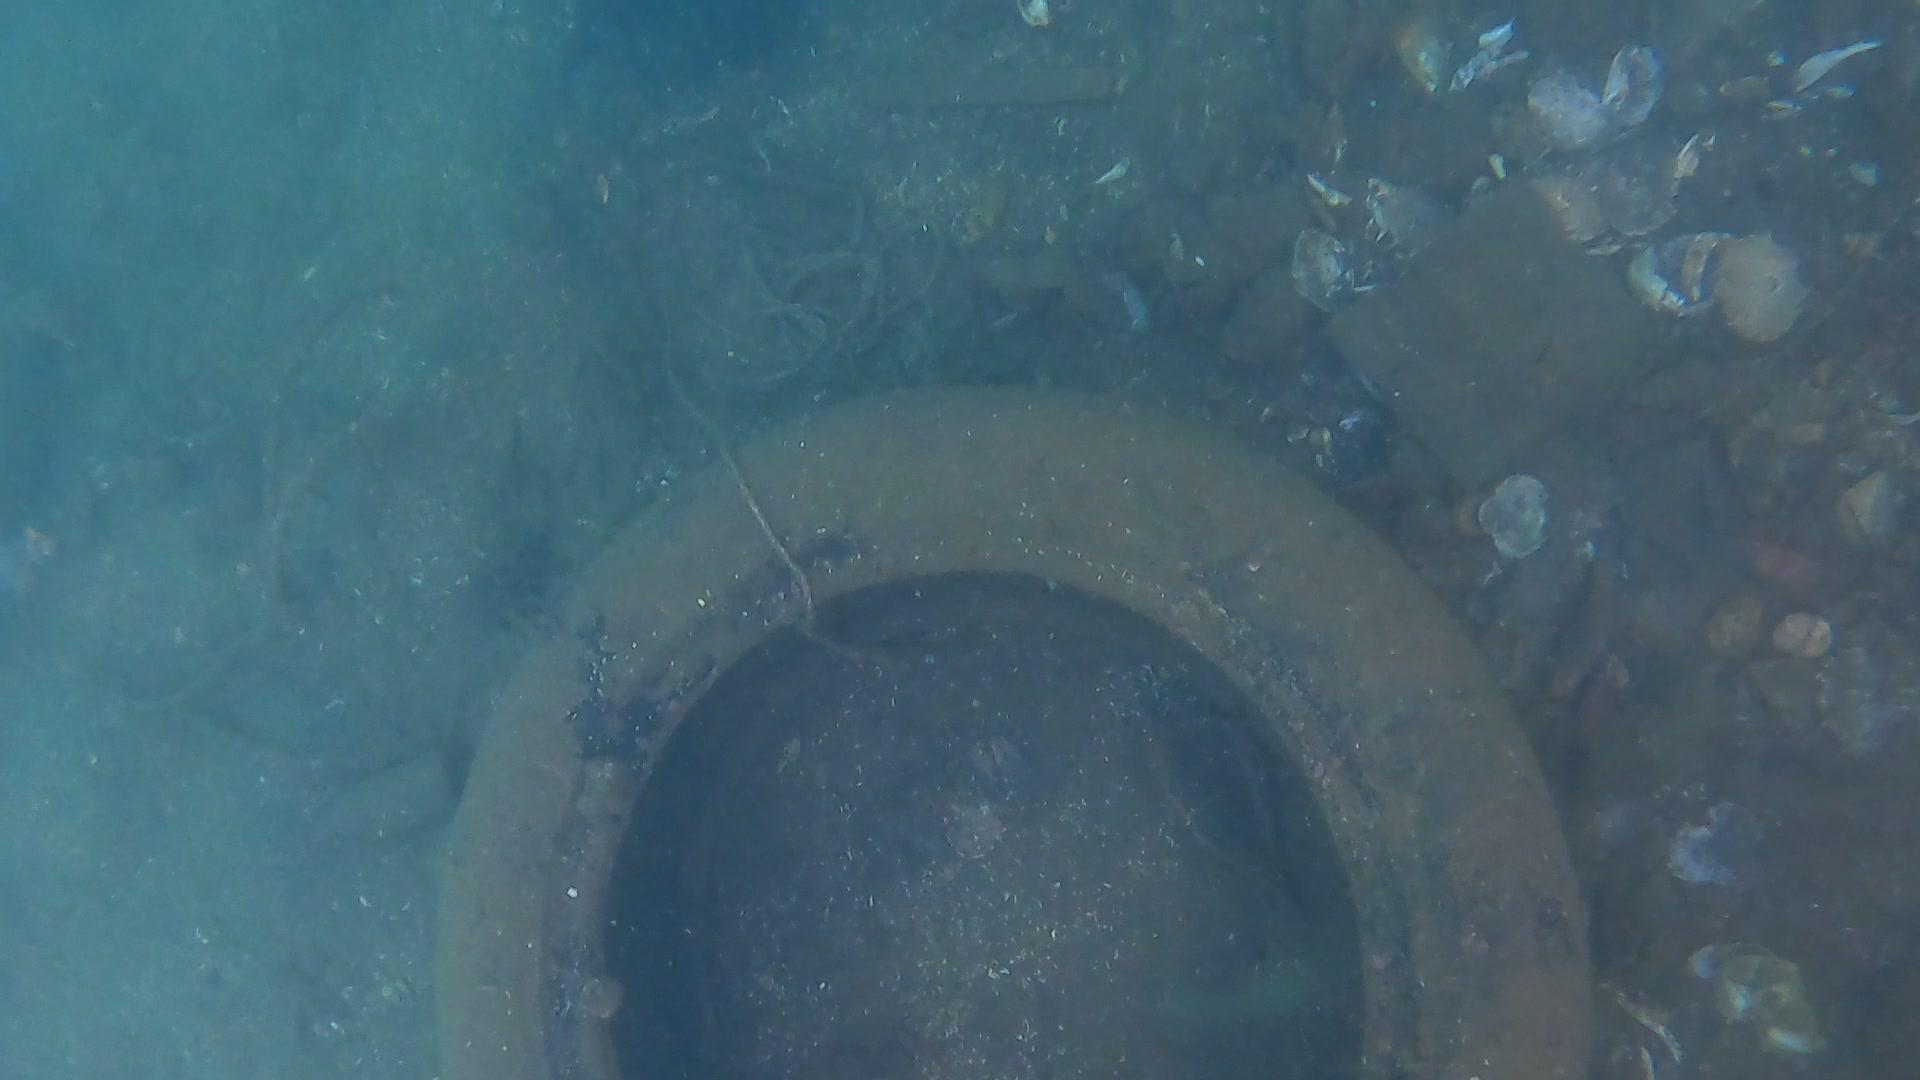tire: (423, 377, 1597, 1080)
